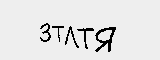З: (38, 19, 52, 46)
Л: (63, 25, 79, 49)
Т: (76, 26, 94, 52), (51, 22, 66, 43)
Я: (93, 24, 120, 56)
